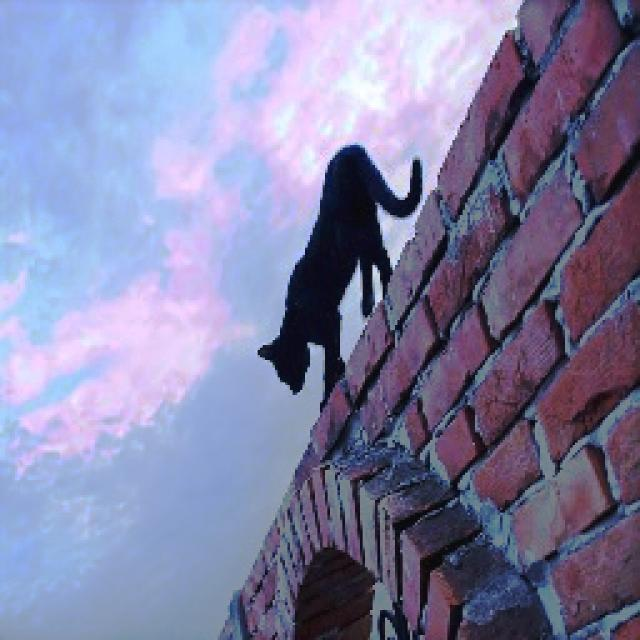cat: (210, 118, 450, 416)
